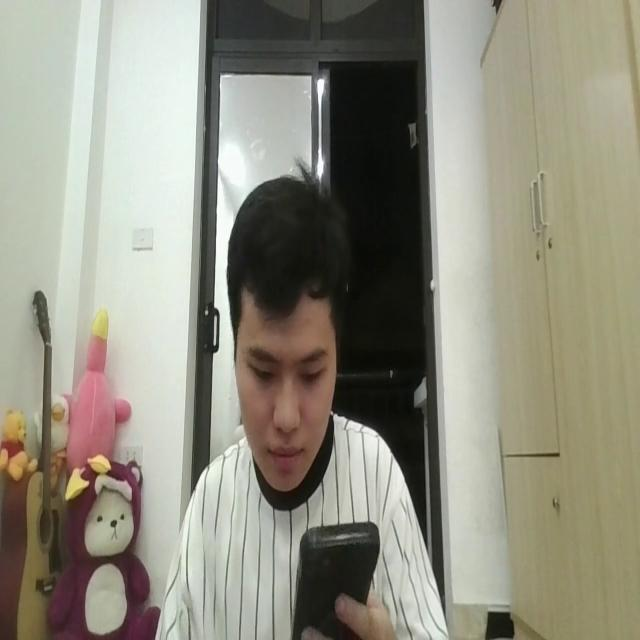phone: (289, 506, 378, 640)
student: (161, 170, 446, 640)
